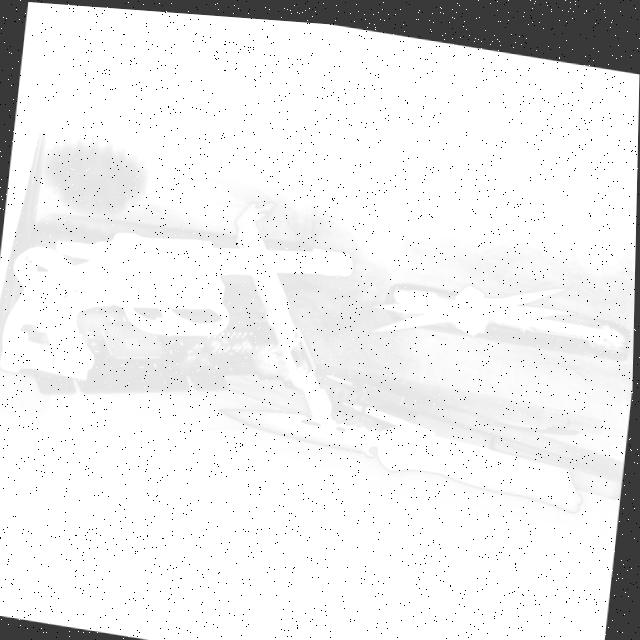knife: (213, 389, 591, 507)
pistol: (0, 194, 360, 425)
